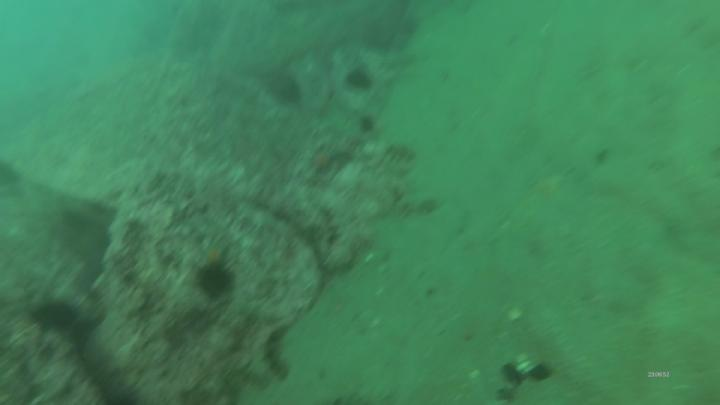echinus: (196, 261, 238, 299)
starfish: (312, 147, 338, 177), (203, 242, 232, 266)
